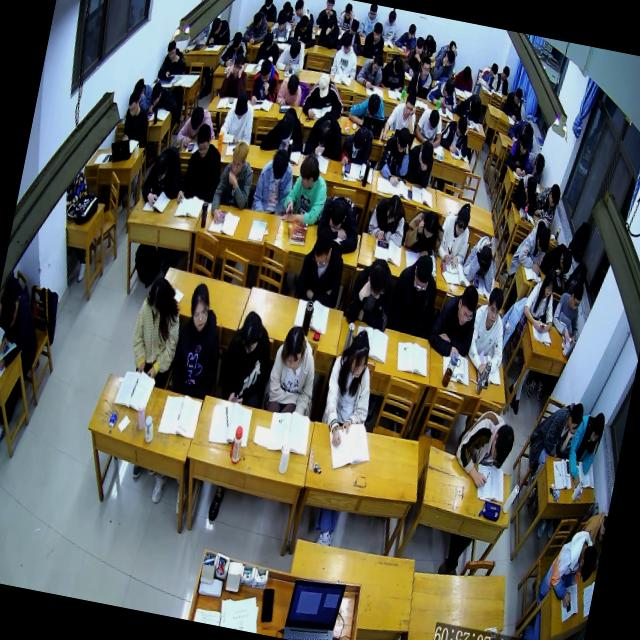bow: (451, 400, 522, 492), (312, 188, 368, 255), (138, 141, 188, 214), (258, 99, 311, 160), (300, 68, 350, 125), (459, 232, 504, 294), (302, 106, 349, 164), (401, 203, 448, 261), (173, 100, 221, 154), (347, 87, 392, 129), (540, 236, 577, 278), (426, 72, 462, 115), (146, 79, 182, 117), (505, 116, 539, 150), (453, 90, 485, 126), (314, 14, 344, 52), (206, 15, 233, 50), (421, 28, 441, 58)
down: (0, 283, 48, 377), (277, 323, 308, 374), (486, 421, 516, 472), (236, 310, 266, 359), (362, 254, 392, 302), (453, 282, 482, 330), (144, 274, 172, 320), (572, 541, 600, 584), (410, 251, 436, 293), (310, 228, 334, 271), (267, 144, 292, 182), (227, 139, 250, 180), (192, 121, 216, 160), (326, 197, 350, 236), (0, 292, 21, 332), (474, 240, 496, 276), (567, 398, 587, 436), (384, 190, 405, 226), (150, 152, 172, 186), (420, 207, 441, 241), (587, 410, 607, 444), (232, 88, 252, 122), (452, 204, 472, 238), (276, 112, 297, 144), (540, 266, 559, 300), (416, 136, 436, 168), (393, 124, 413, 155), (314, 117, 334, 148), (568, 280, 586, 314), (314, 68, 333, 100), (532, 224, 552, 254), (187, 104, 207, 134), (125, 88, 144, 118), (350, 123, 369, 153), (401, 90, 419, 121), (557, 245, 575, 275), (363, 92, 382, 120), (257, 54, 274, 84), (546, 184, 562, 212), (524, 172, 540, 199), (148, 82, 164, 108), (533, 150, 548, 176), (516, 132, 532, 156), (230, 27, 246, 50), (274, 12, 290, 34), (442, 46, 458, 68), (467, 92, 483, 114), (164, 38, 178, 62), (340, 32, 354, 56), (442, 76, 456, 100), (285, 74, 301, 95), (454, 115, 469, 137), (210, 15, 224, 38), (288, 39, 302, 62), (321, 15, 336, 36), (252, 7, 266, 29), (262, 29, 276, 51), (370, 22, 384, 44), (422, 32, 436, 54), (296, 12, 310, 33), (370, 51, 384, 72), (461, 64, 474, 86), (498, 64, 512, 84), (512, 84, 525, 105), (348, 18, 360, 39), (392, 55, 404, 76), (385, 9, 398, 28), (487, 61, 499, 81), (406, 22, 418, 42), (342, 1, 353, 21), (293, 0, 305, 18), (367, 5, 378, 22), (261, 0, 274, 12)
lookup: (342, 326, 375, 384), (184, 281, 216, 334), (482, 285, 506, 329), (232, 51, 248, 77), (418, 55, 433, 79), (414, 34, 426, 56), (324, 0, 336, 13)
sit: (316, 322, 385, 452), (166, 280, 233, 402), (124, 272, 189, 390), (215, 306, 280, 409), (262, 321, 326, 424), (536, 524, 602, 612), (386, 246, 446, 340), (462, 282, 516, 383), (206, 136, 260, 233), (292, 226, 351, 310), (342, 252, 401, 336), (424, 276, 484, 358), (176, 118, 230, 207), (279, 148, 335, 232), (527, 392, 586, 460), (250, 143, 300, 220), (562, 407, 608, 487), (518, 263, 563, 336), (433, 200, 476, 271), (374, 121, 418, 190), (507, 210, 554, 274), (216, 82, 261, 148), (550, 272, 589, 342), (365, 189, 412, 247), (380, 86, 422, 148), (120, 86, 156, 149), (246, 55, 284, 111), (337, 118, 377, 170), (217, 46, 254, 102), (402, 136, 438, 192), (438, 108, 477, 158), (412, 101, 448, 150), (354, 42, 389, 92), (328, 30, 364, 78), (156, 36, 191, 84), (530, 180, 564, 228), (509, 170, 544, 216), (217, 23, 252, 68), (406, 51, 438, 99), (504, 128, 536, 176), (274, 34, 308, 78), (401, 34, 431, 80), (274, 70, 306, 110), (290, 8, 321, 48), (336, 16, 367, 56), (380, 49, 410, 89), (242, 7, 272, 46), (360, 21, 390, 60), (255, 26, 284, 66), (267, 6, 296, 46), (430, 43, 458, 83), (502, 81, 528, 120), (377, 7, 403, 45), (313, 0, 341, 33), (394, 20, 421, 54), (334, 0, 358, 37), (358, 3, 382, 40), (524, 150, 548, 184), (453, 59, 478, 91), (477, 56, 502, 88), (493, 65, 513, 96), (257, 0, 282, 22)
